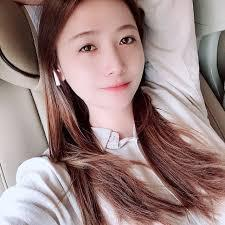earphone: (44, 66, 66, 86)
